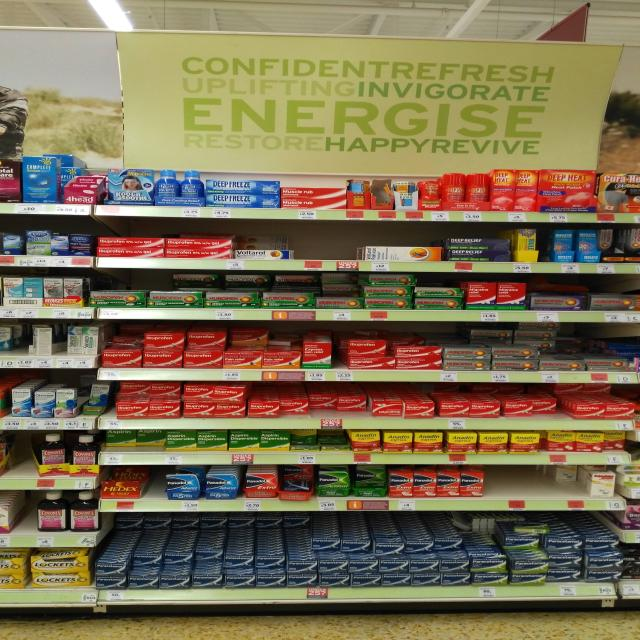empty: (485, 460, 543, 506), (297, 226, 354, 261), (15, 490, 37, 535)
